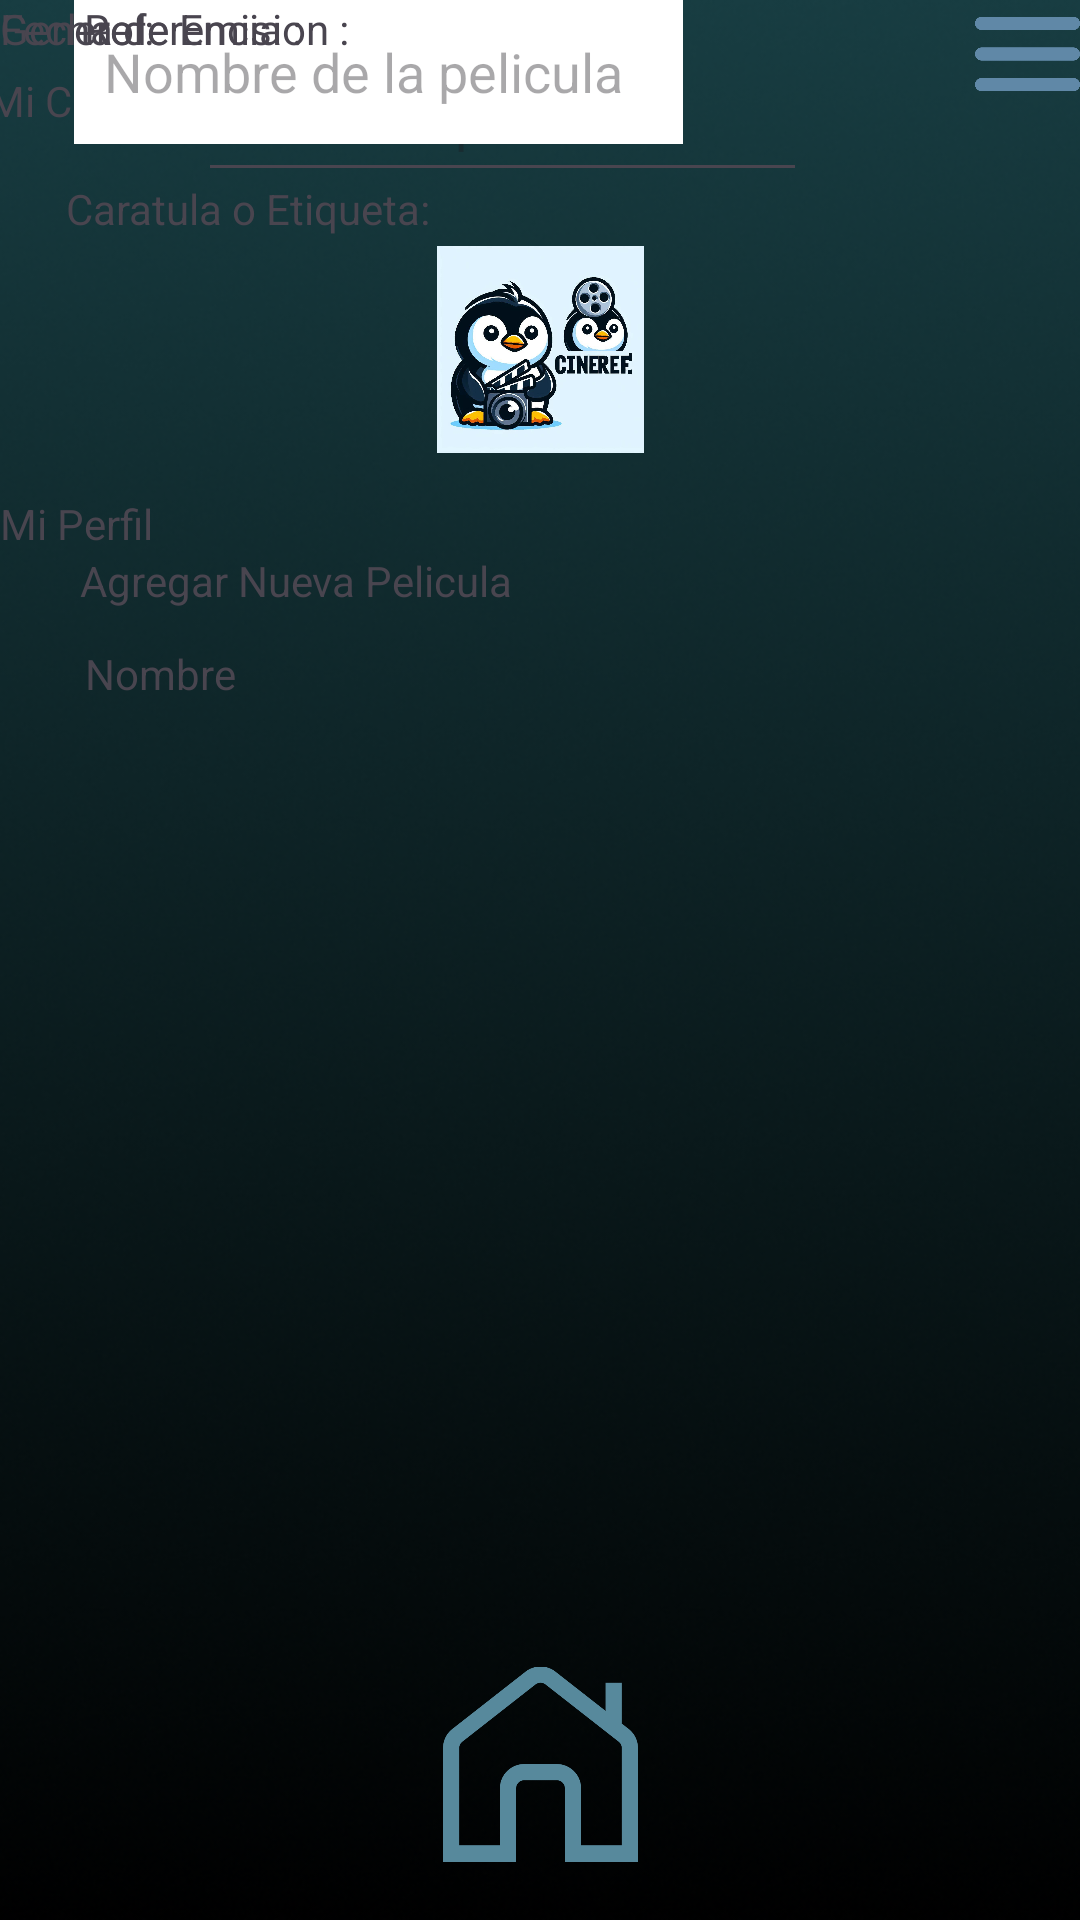

Where to tap for icons on this 1080px×1920px app screen, as (x=x, y=y):
home: (x=540, y=1764)
menu: (x=1027, y=54)
